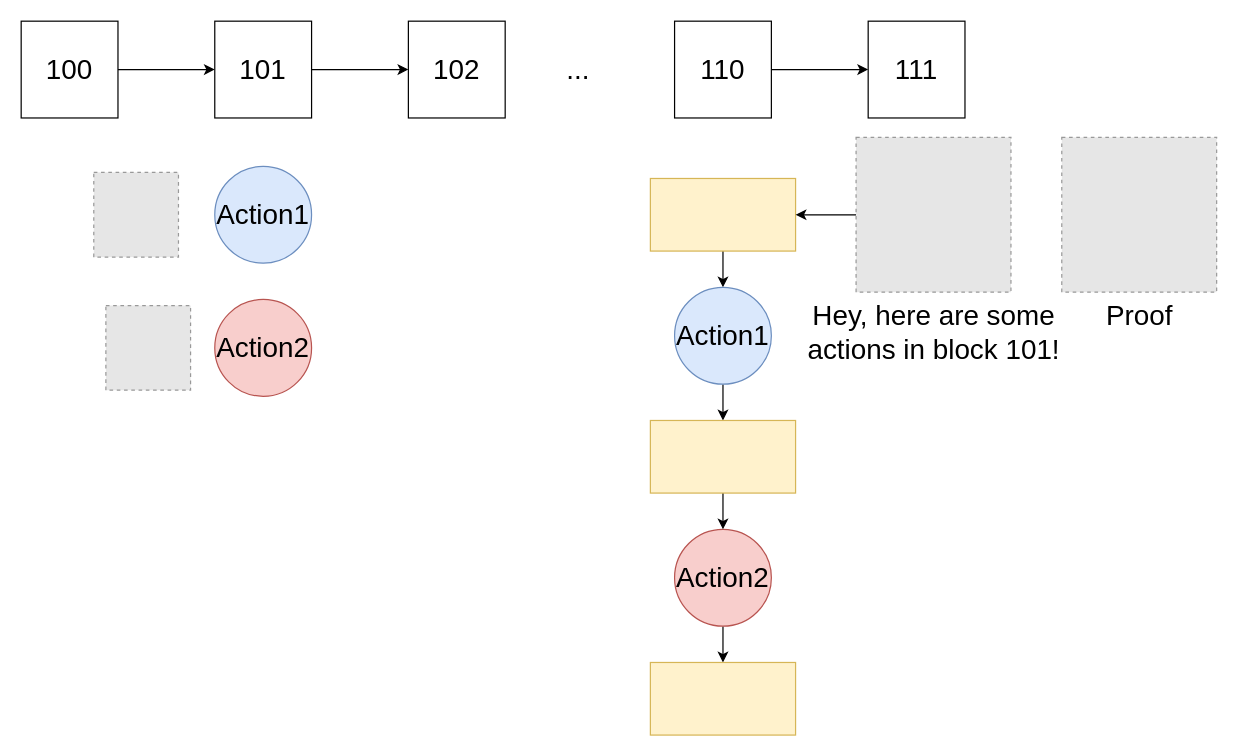
This 1238x756 diagram has some shape labels left out. Grey dashed boxes stand in for pictures. The centre of each missing label's shape, as x and y in pixels:
"state1" belongs at (x=722, y=214).
"state2" belongs at (x=722, y=456).
"state3" belongs at (x=722, y=698).
